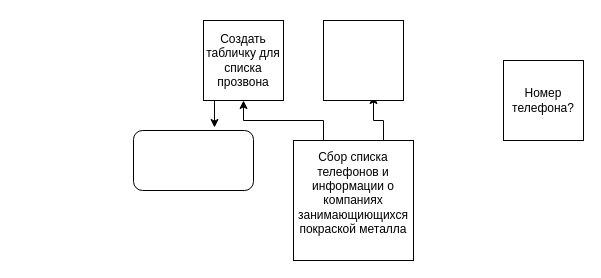
This 601x278 diagram has some shape labels left out. Each missing label, with the box of its shape:
https://airtable.com/tblqhw8HoKn9whnGd/viwhT76KmpxZUeM7u?blocks=hide: (132, 130, 254, 190)
Найти методы поиска и попытаться автоматизировать процесс: (322, 20, 404, 100)
